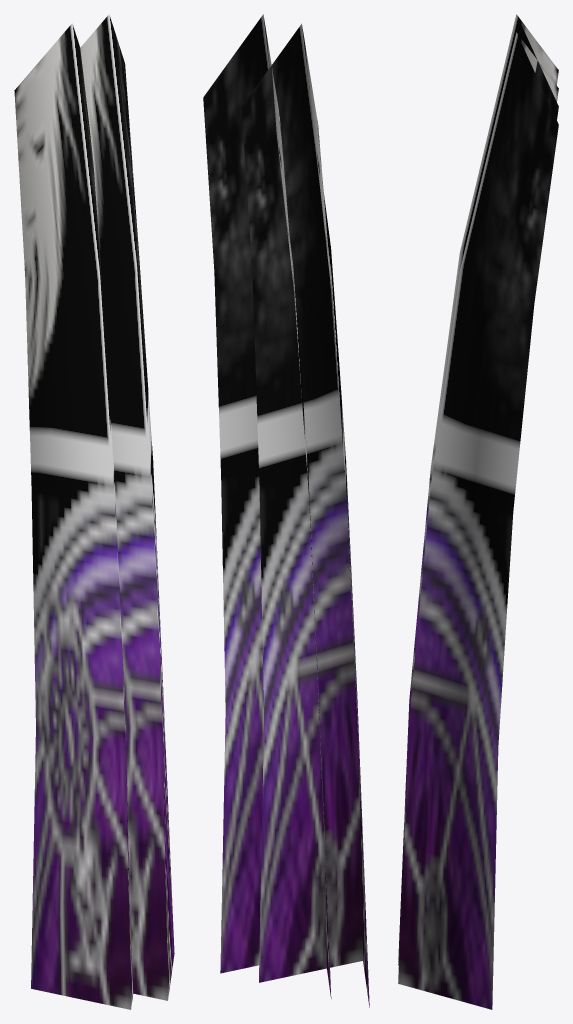
File: n1028_skill_1.FBX
3 views of the same model, side by side, from view 1: azimuth 30°, elevation 25°; view 2: azimuth 150°, elevation 25°; view 3: azimuth 270°, elevation 25° (orthographic). The views are drawn at different scales.
Parts seen in each view (by area): view 1: n1028_skill_1; view 2: n1028_skill_1; view 3: n1028_skill_1.
Boxes of the visible parts, <box> form: n1028_skill_1: <box>14,14,174,1009</box>; n1028_skill_1: <box>203,14,369,1007</box>; n1028_skill_1: <box>398,14,558,1009</box>.
Size of the model in its own units: 88.12 by 554 by 84.8.
